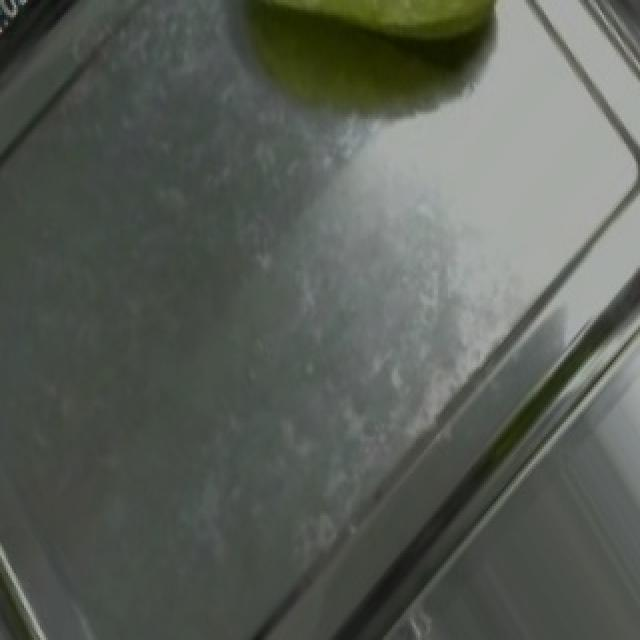fruit: (216, 0, 528, 134)
